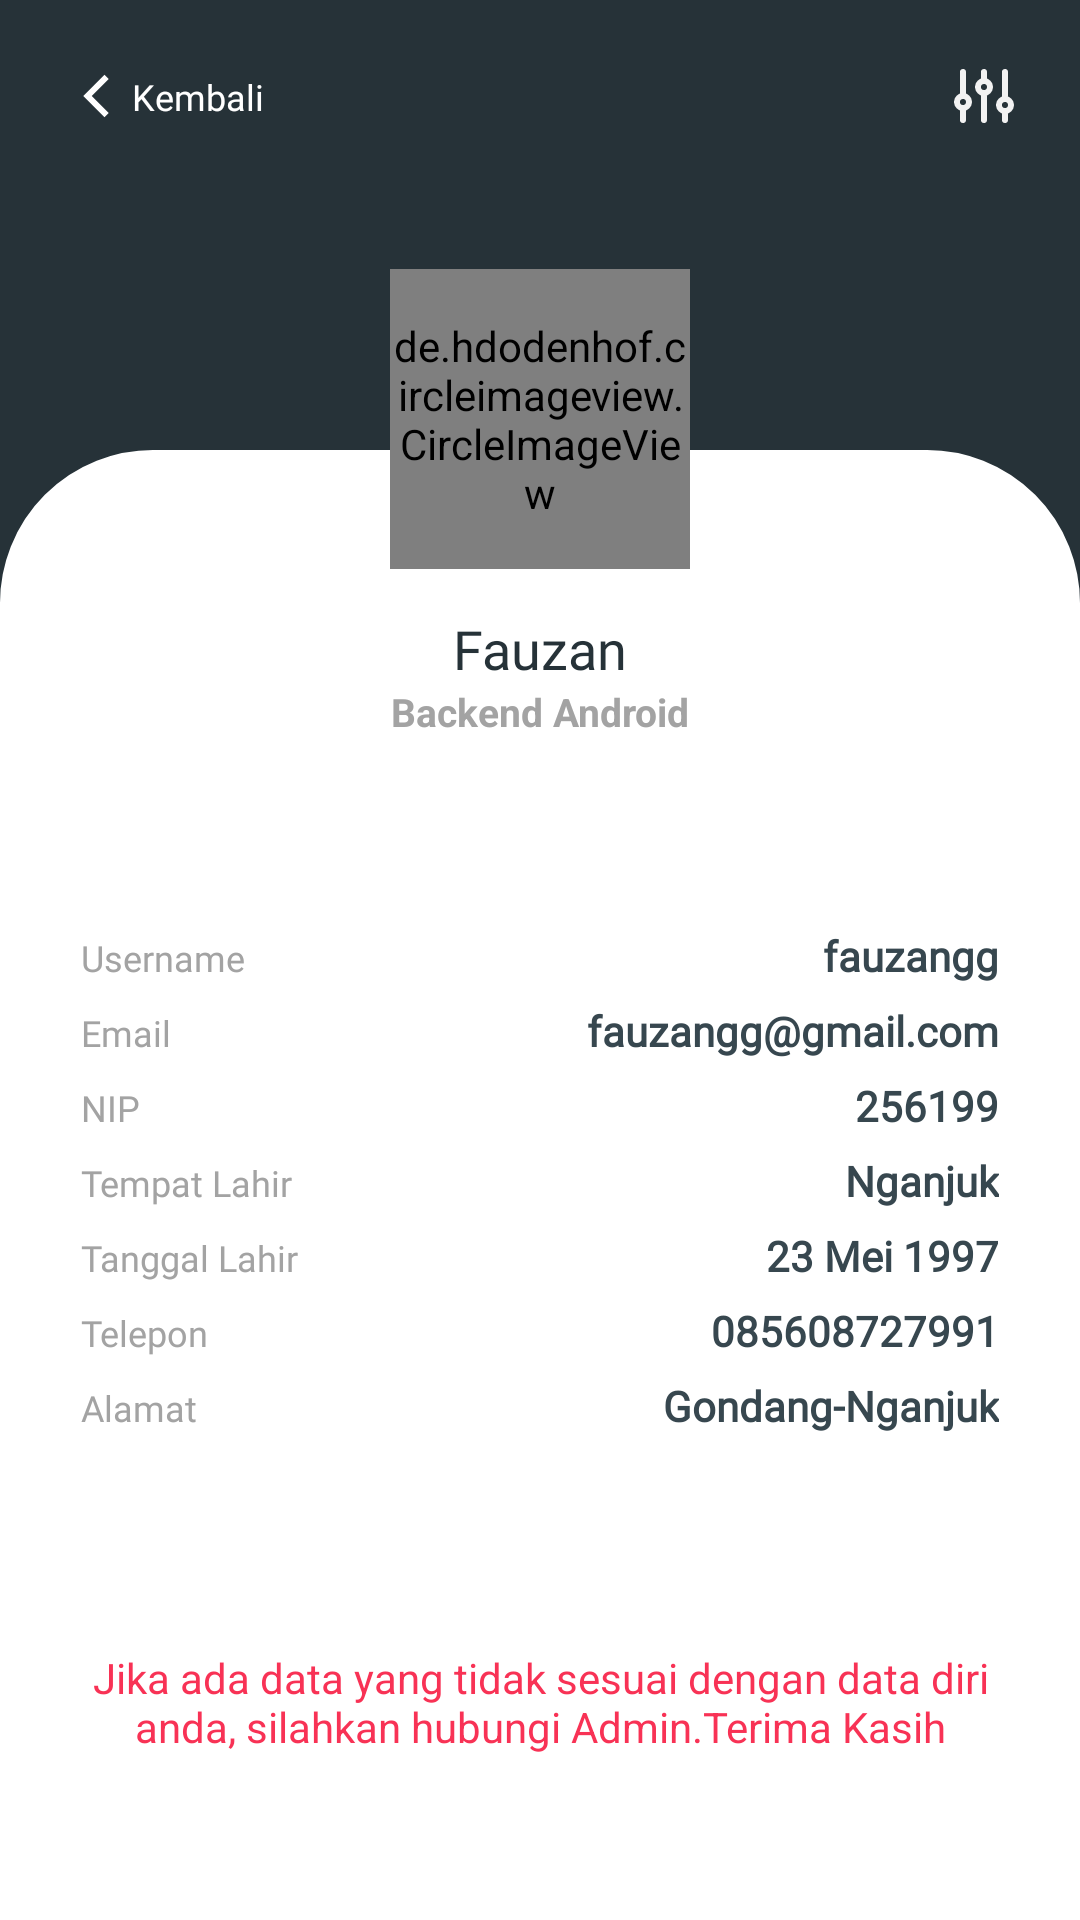

Named icons in this screenshot (1080 x 1920) and their centers, (x=x, y=y):
chevron left: (x=96, y=96)
filter: (x=984, y=96)
